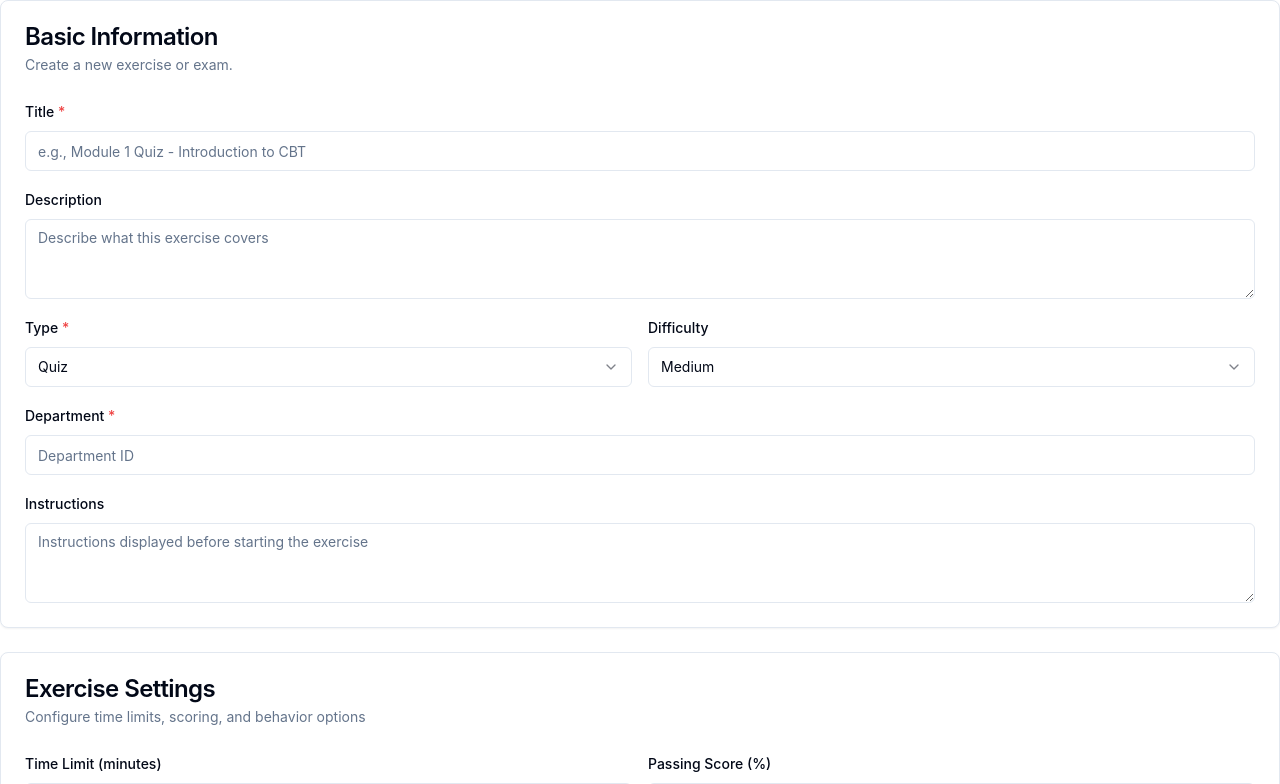
Test case: ExerciseForm › Exercise Type Selection › should allow selecting assessment type
The width and height of the screenshot is (1280, 784).
Click the dropdown named "Type": [53, 366] box [25, 347, 632, 387]
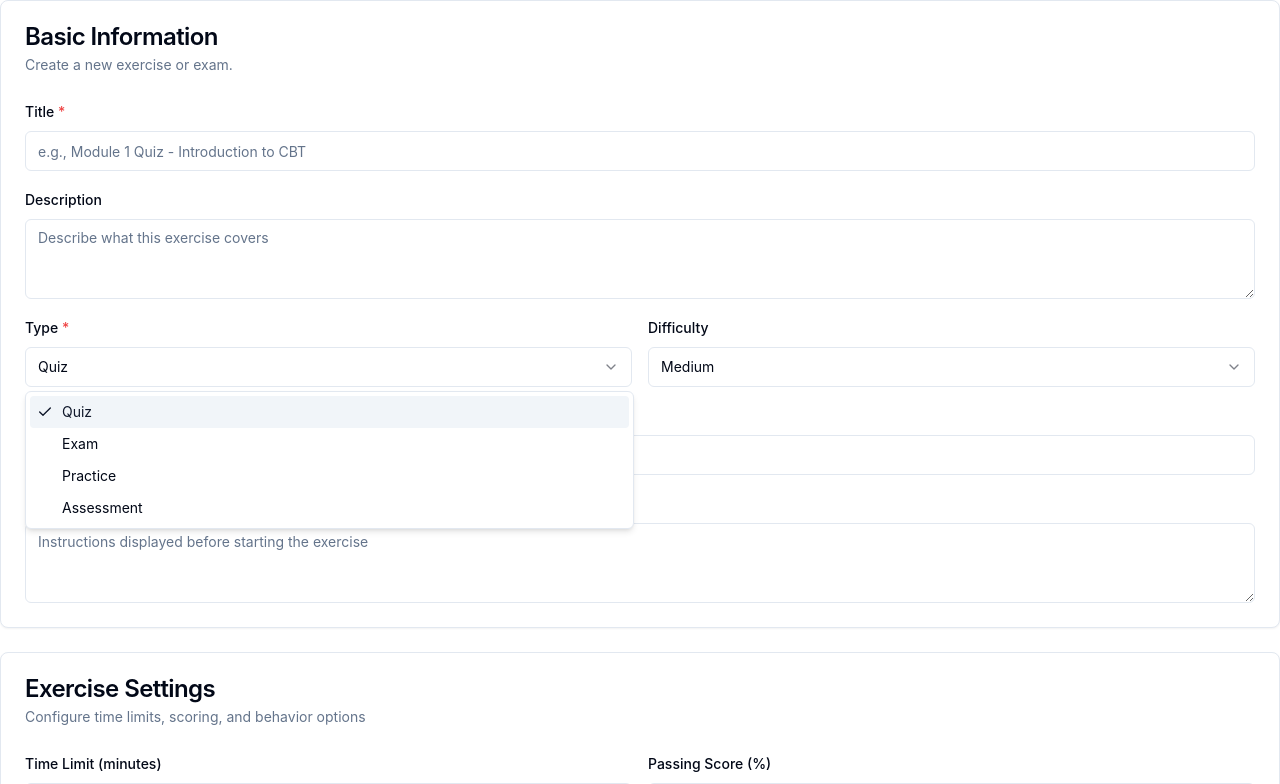
Click the option "Assessment": [102, 508] box [62, 499, 143, 516]
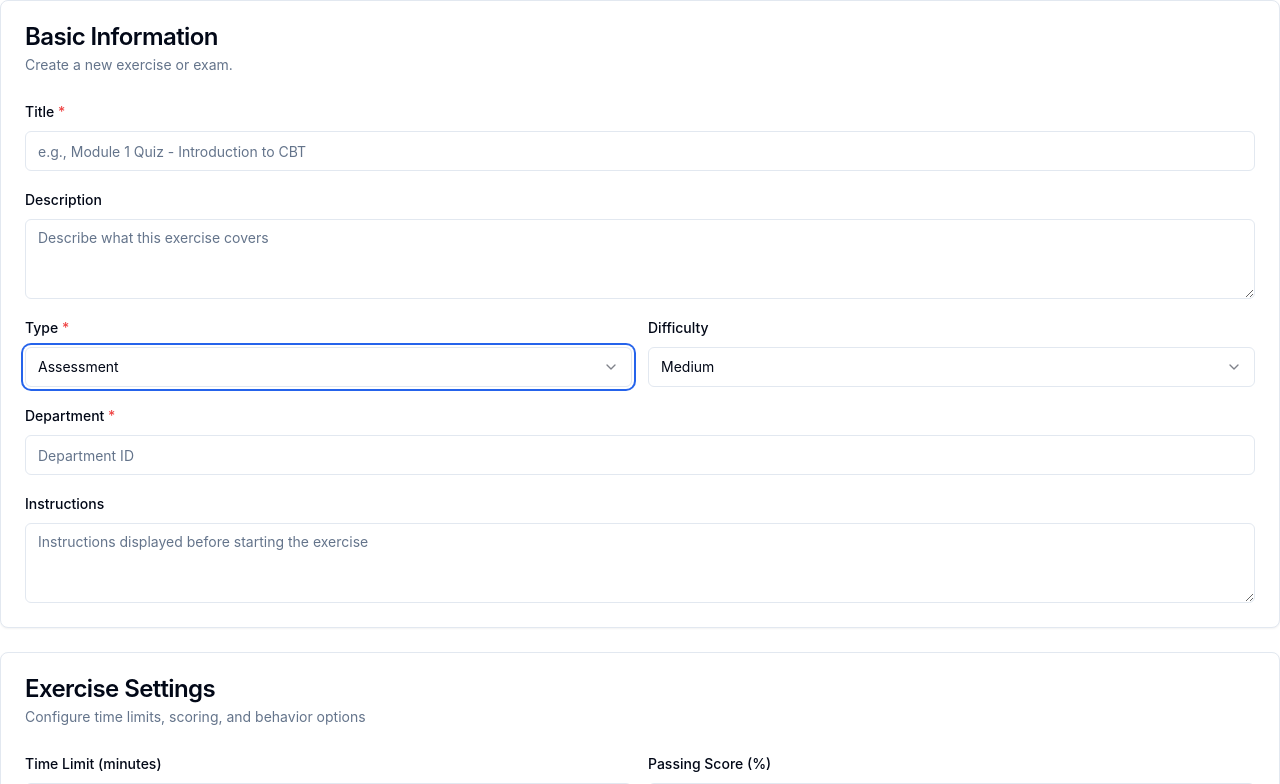
Expected: the dropdown named "Type" reads "Assessment", [25, 347, 632, 387]
